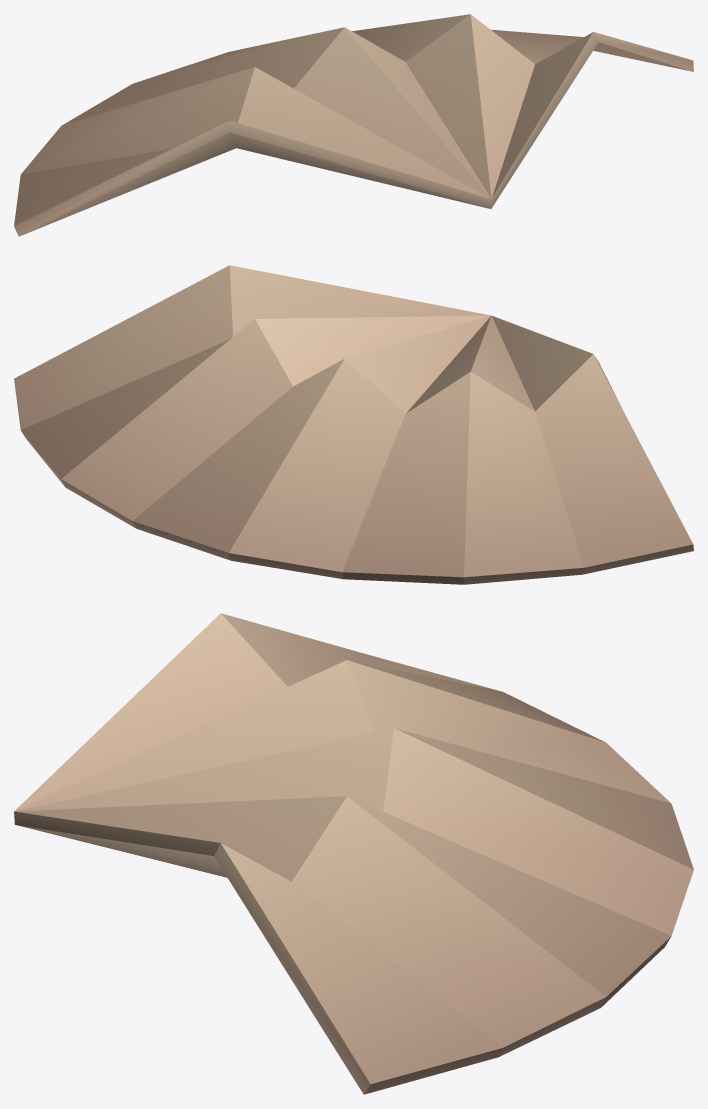
Rendered from node-shell.glb.
The picture shows the model from 3 angles, top to bottom: view 1: azimuth 30°, elevation 25°; view 2: azimuth 150°, elevation 25°; view 3: azimuth 270°, elevation 25°; orthographic projection. The views are drawn at different scales.
Parts seen in each view (by area): view 1: 0_shell; view 2: 0_shell; view 3: 0_shell.
Part boxes in pixels (x1,y1,x2,y2): 0_shell: (14,14,693,236); 0_shell: (14,265,693,584); 0_shell: (14,613,693,1094).
Size of the model in its own units: 0.5075 by 0.085 by 0.34.
